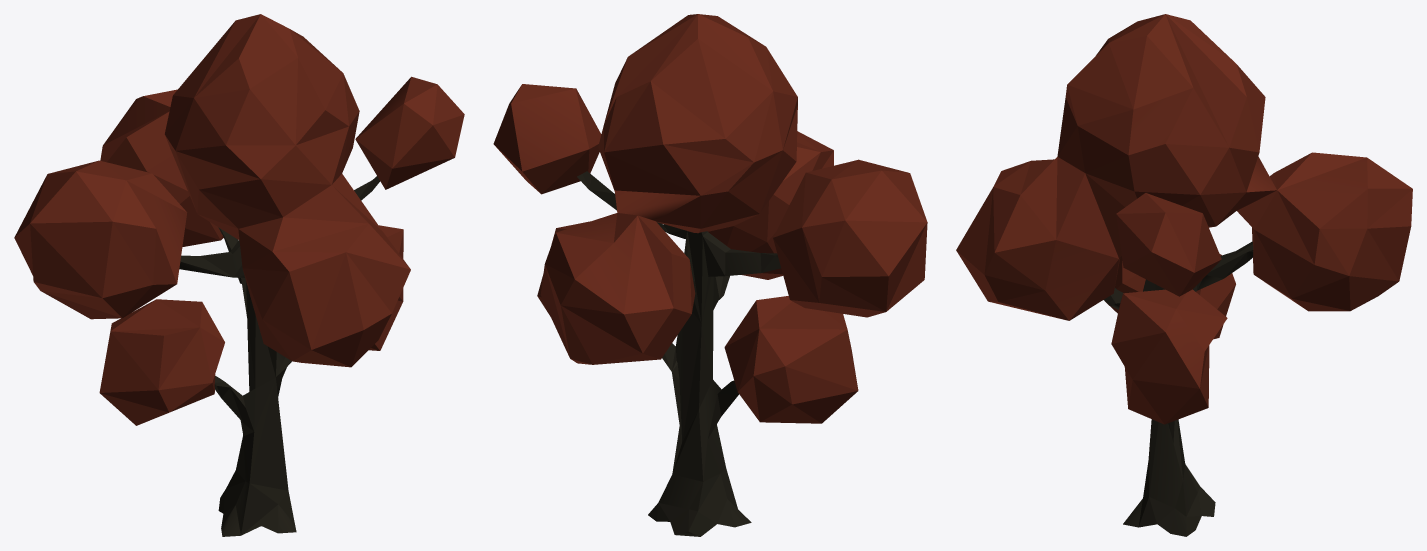
File: tree_1_2.obj
3 views of the same model, side by side, from view 1: azimuth 30°, elevation 25°; view 2: azimuth 150°, elevation 25°; view 3: azimuth 270°, elevation 25° (orthographic).
Parts seen in each view (by area): view 1: pSphere11, pCube1; view 2: pSphere11, pCube1; view 3: pSphere11, pCube1.
Part boxes in pixels (<box>): pSphere11: <box>14,14,464,425</box>; pCube1: <box>179,176,379,536</box>; pSphere11: <box>493,14,927,423</box>; pCube1: <box>577,171,780,536</box>; pSphere11: <box>956,14,1412,424</box>; pCube1: <box>1104,241,1253,536</box>.
Bounding box in the file's own units: 22.5 × 25.43 × 20.92.
